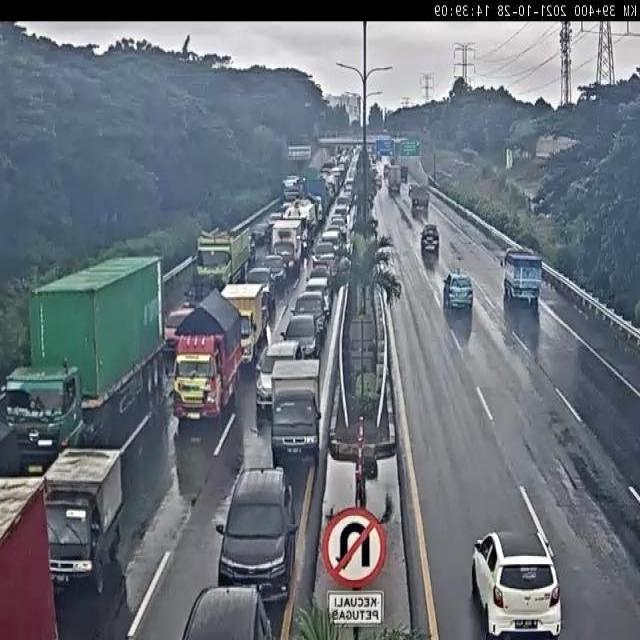Car: (217, 466, 298, 607), (472, 529, 564, 640), (181, 582, 274, 640), (443, 274, 474, 311)
Truck: (0, 253, 164, 475), (26, 452, 123, 596), (0, 478, 58, 640), (169, 289, 241, 419), (268, 361, 322, 472), (212, 285, 263, 368), (192, 225, 250, 297), (500, 251, 543, 304), (270, 220, 302, 273), (387, 166, 401, 193)
